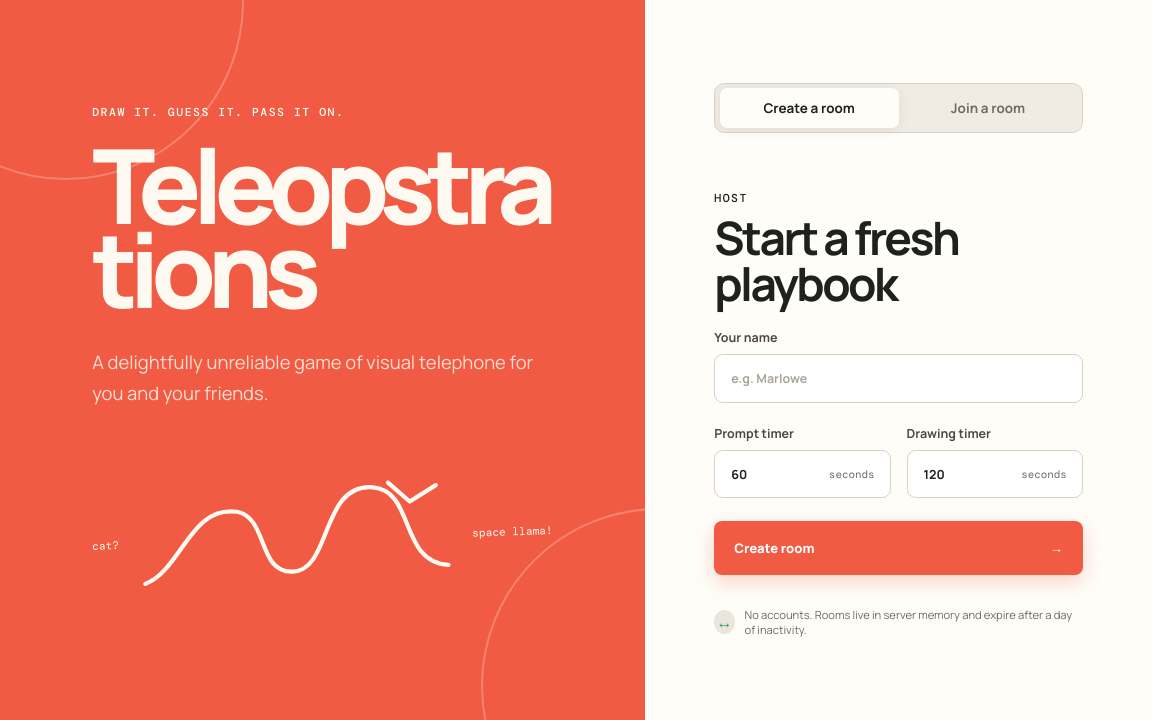
it: landing experience › shows the specified timer defaults and join flow
Expected: the number field labelled "Prompt timer seconds" holds "60", [714, 450, 890, 498]
Expected: the number field labelled "Drawing timer seconds" holds "120", [906, 450, 1083, 498]
Step 1. Click the button "Join a room" → (988, 108), box [898, 88, 1077, 128]
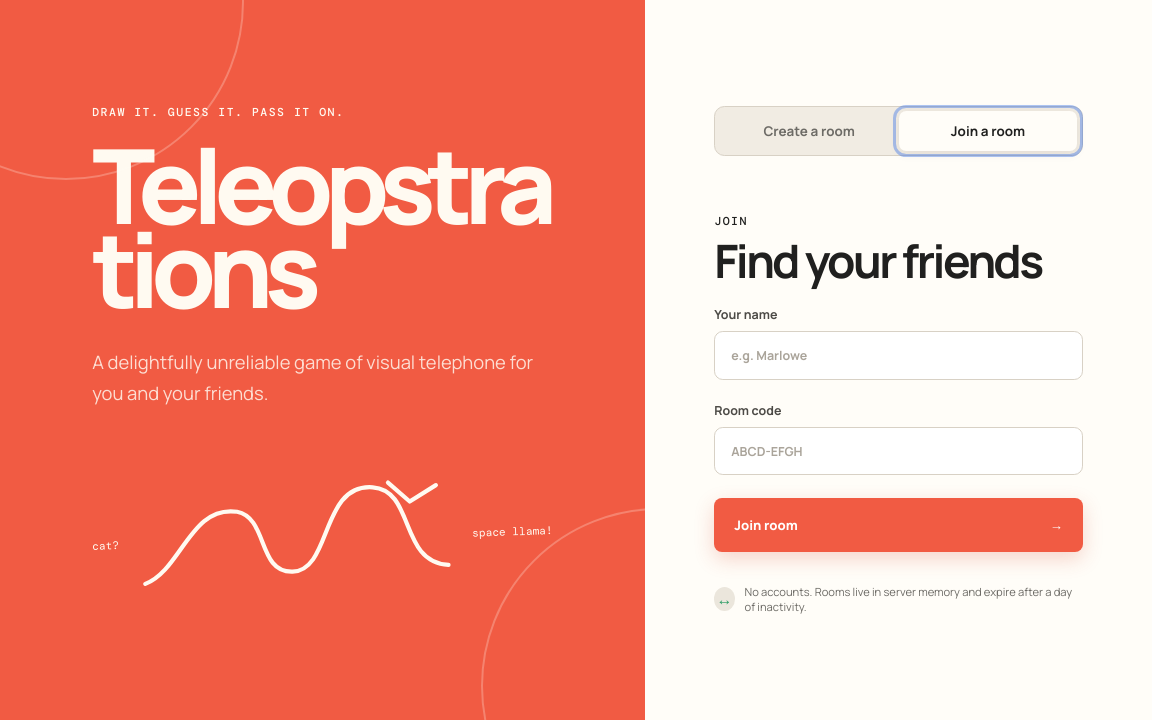
Expected: the field labelled "Room code" is shown, [714, 427, 1083, 475]
Result: the label labelled "Prompt timer" is gone
